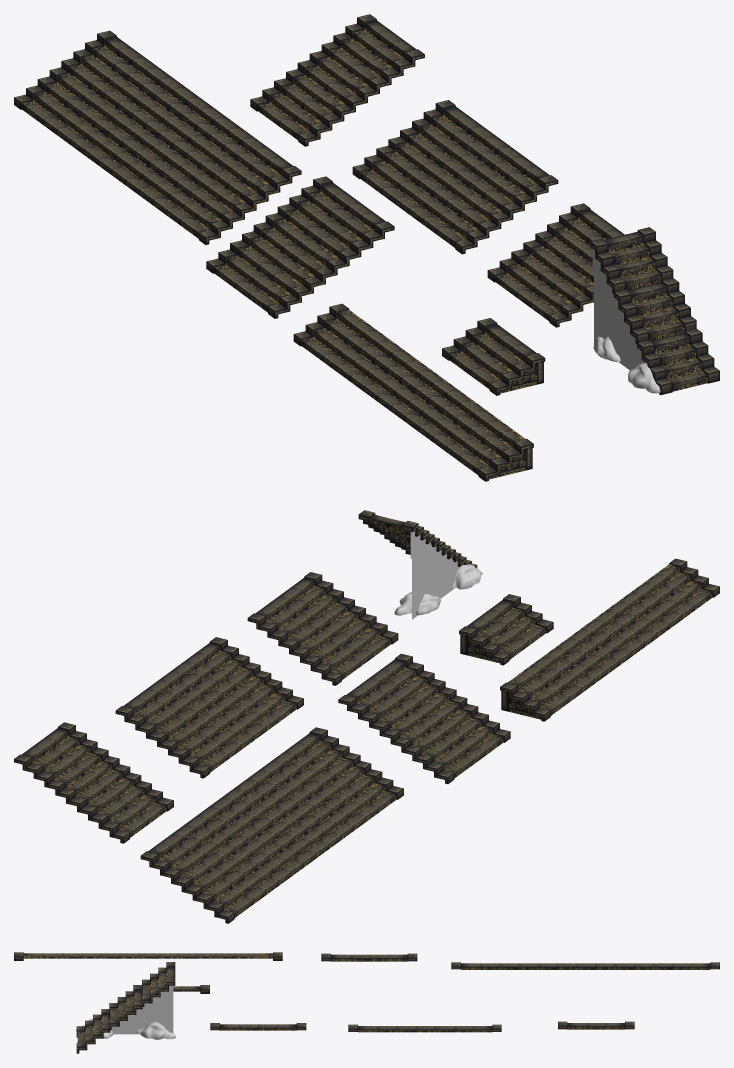
File: EnvMdrMD_Desert_Exterior_Stairs_A_4S3W.FBX
3 views of the same model, one above another, from view 1: azimuth 30°, elevation 25°; view 2: azimuth 150°, elevation 25°; view 3: azimuth 270°, elevation 25° (orthographic). The views are drawn at different scales.
Parts seen in each view (by area): view 1: EnvMdrMD_Desert_Exterior_Stairs_A_8S14W, EnvMdrMD_Desert_Exterior_Stairs_A_8S7W, EnvMdrMD_Desert_Exterior_Stairs_A_4S14W, EnvMdrMD_Desert_Exterior_Stairs_A_Unique_A, EnvMdrMD_Desert_Exterior_Stairs_A_10S4W, EnvMdrMD_Desert_Exterior_Stairs_A_10S3W, EnvMdrMD_Desert_Exterior_Stairs_A_8S4W, EnvMdrMD_Desert_Exterior_Stairs_A_4S3W; view 2: EnvMdrMD_Desert_Exterior_Stairs_A_8S14W, EnvMdrMD_Desert_Exterior_Stairs_A_8S7W, EnvMdrMD_Desert_Exterior_Stairs_A_4S14W, EnvMdrMD_Desert_Exterior_Stairs_A_10S4W, EnvMdrMD_Desert_Exterior_Stairs_A_10S3W, EnvMdrMD_Desert_Exterior_Stairs_A_8S4W, EnvMdrMD_Desert_Exterior_Stairs_A_Unique_A, EnvMdrMD_Desert_Exterior_Stairs_A_4S3W; view 3: EnvMdrMD_Desert_Exterior_Stairs_A_Unique_A, EnvMdrMD_Desert_Exterior_Stairs_A_8S14W, EnvMdrMD_Desert_Exterior_Stairs_A_4S14W, EnvMdrMD_Desert_Exterior_Stairs_A_8S7W, EnvMdrMD_Desert_Exterior_Stairs_A_10S4W, EnvMdrMD_Desert_Exterior_Stairs_A_8S4W, EnvMdrMD_Desert_Exterior_Stairs_A_10S3W, EnvMdrMD_Desert_Exterior_Stairs_A_4S3W.
Part boxes in pixels (x1,y1,x2,y2): EnvMdrMD_Desert_Exterior_Stairs_A_8S14W: (14,30,301,244); EnvMdrMD_Desert_Exterior_Stairs_A_8S7W: (352,100,558,254); EnvMdrMD_Desert_Exterior_Stairs_A_4S14W: (293,303,533,481); EnvMdrMD_Desert_Exterior_Stairs_A_Unique_A: (590,227,719,394); EnvMdrMD_Desert_Exterior_Stairs_A_10S4W: (206,176,394,318); EnvMdrMD_Desert_Exterior_Stairs_A_10S3W: (250,14,424,146); EnvMdrMD_Desert_Exterior_Stairs_A_8S4W: (487,203,624,327); EnvMdrMD_Desert_Exterior_Stairs_A_4S3W: (442,318,545,395); EnvMdrMD_Desert_Exterior_Stairs_A_8S14W: (140,727,403,923); EnvMdrMD_Desert_Exterior_Stairs_A_8S7W: (115,637,303,778); EnvMdrMD_Desert_Exterior_Stairs_A_4S14W: (500,558,719,721); EnvMdrMD_Desert_Exterior_Stairs_A_10S4W: (338,653,510,783); EnvMdrMD_Desert_Exterior_Stairs_A_10S3W: (14,722,173,843); EnvMdrMD_Desert_Exterior_Stairs_A_8S4W: (247,572,398,685); EnvMdrMD_Desert_Exterior_Stairs_A_Unique_A: (358,510,482,619); EnvMdrMD_Desert_Exterior_Stairs_A_4S3W: (459,594,553,665); EnvMdrMD_Desert_Exterior_Stairs_A_Unique_A: (75,962,176,1053); EnvMdrMD_Desert_Exterior_Stairs_A_8S14W: (451,962,719,969); EnvMdrMD_Desert_Exterior_Stairs_A_4S14W: (14,952,282,960); EnvMdrMD_Desert_Exterior_Stairs_A_8S7W: (348,1024,501,1032); EnvMdrMD_Desert_Exterior_Stairs_A_10S4W: (321,953,417,961); EnvMdrMD_Desert_Exterior_Stairs_A_8S4W: (210,1023,306,1030); EnvMdrMD_Desert_Exterior_Stairs_A_10S3W: (558,1021,634,1029); EnvMdrMD_Desert_Exterior_Stairs_A_4S3W: (133,985,209,993).
Size of the model in its own units: 1382 by 412 by 3681.
